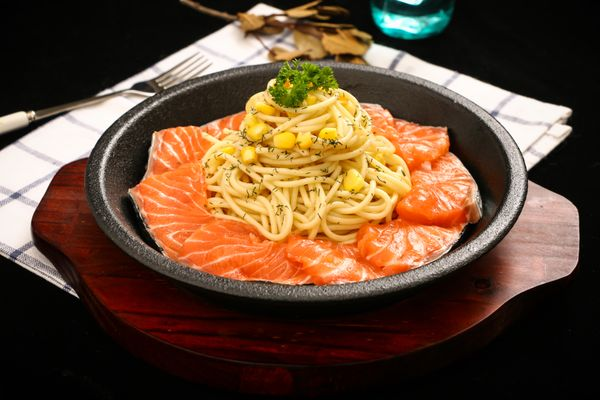curry: (266, 58, 340, 108)
sushi: (84, 54, 568, 312)
